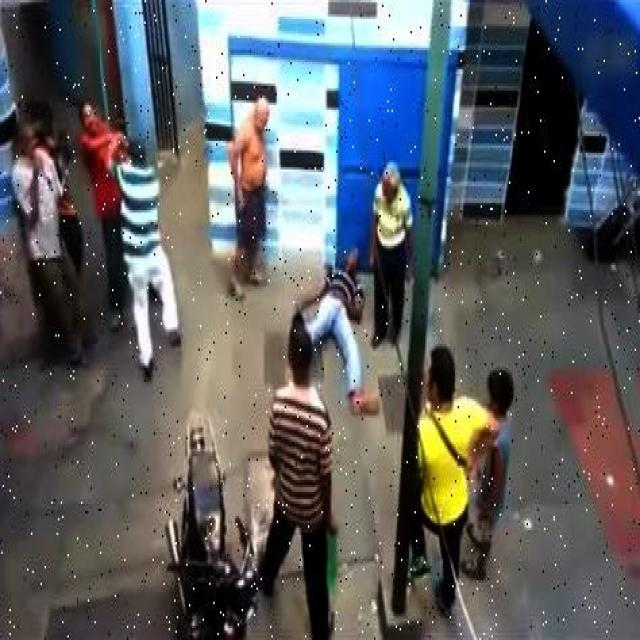fall: (292, 246, 372, 380)
